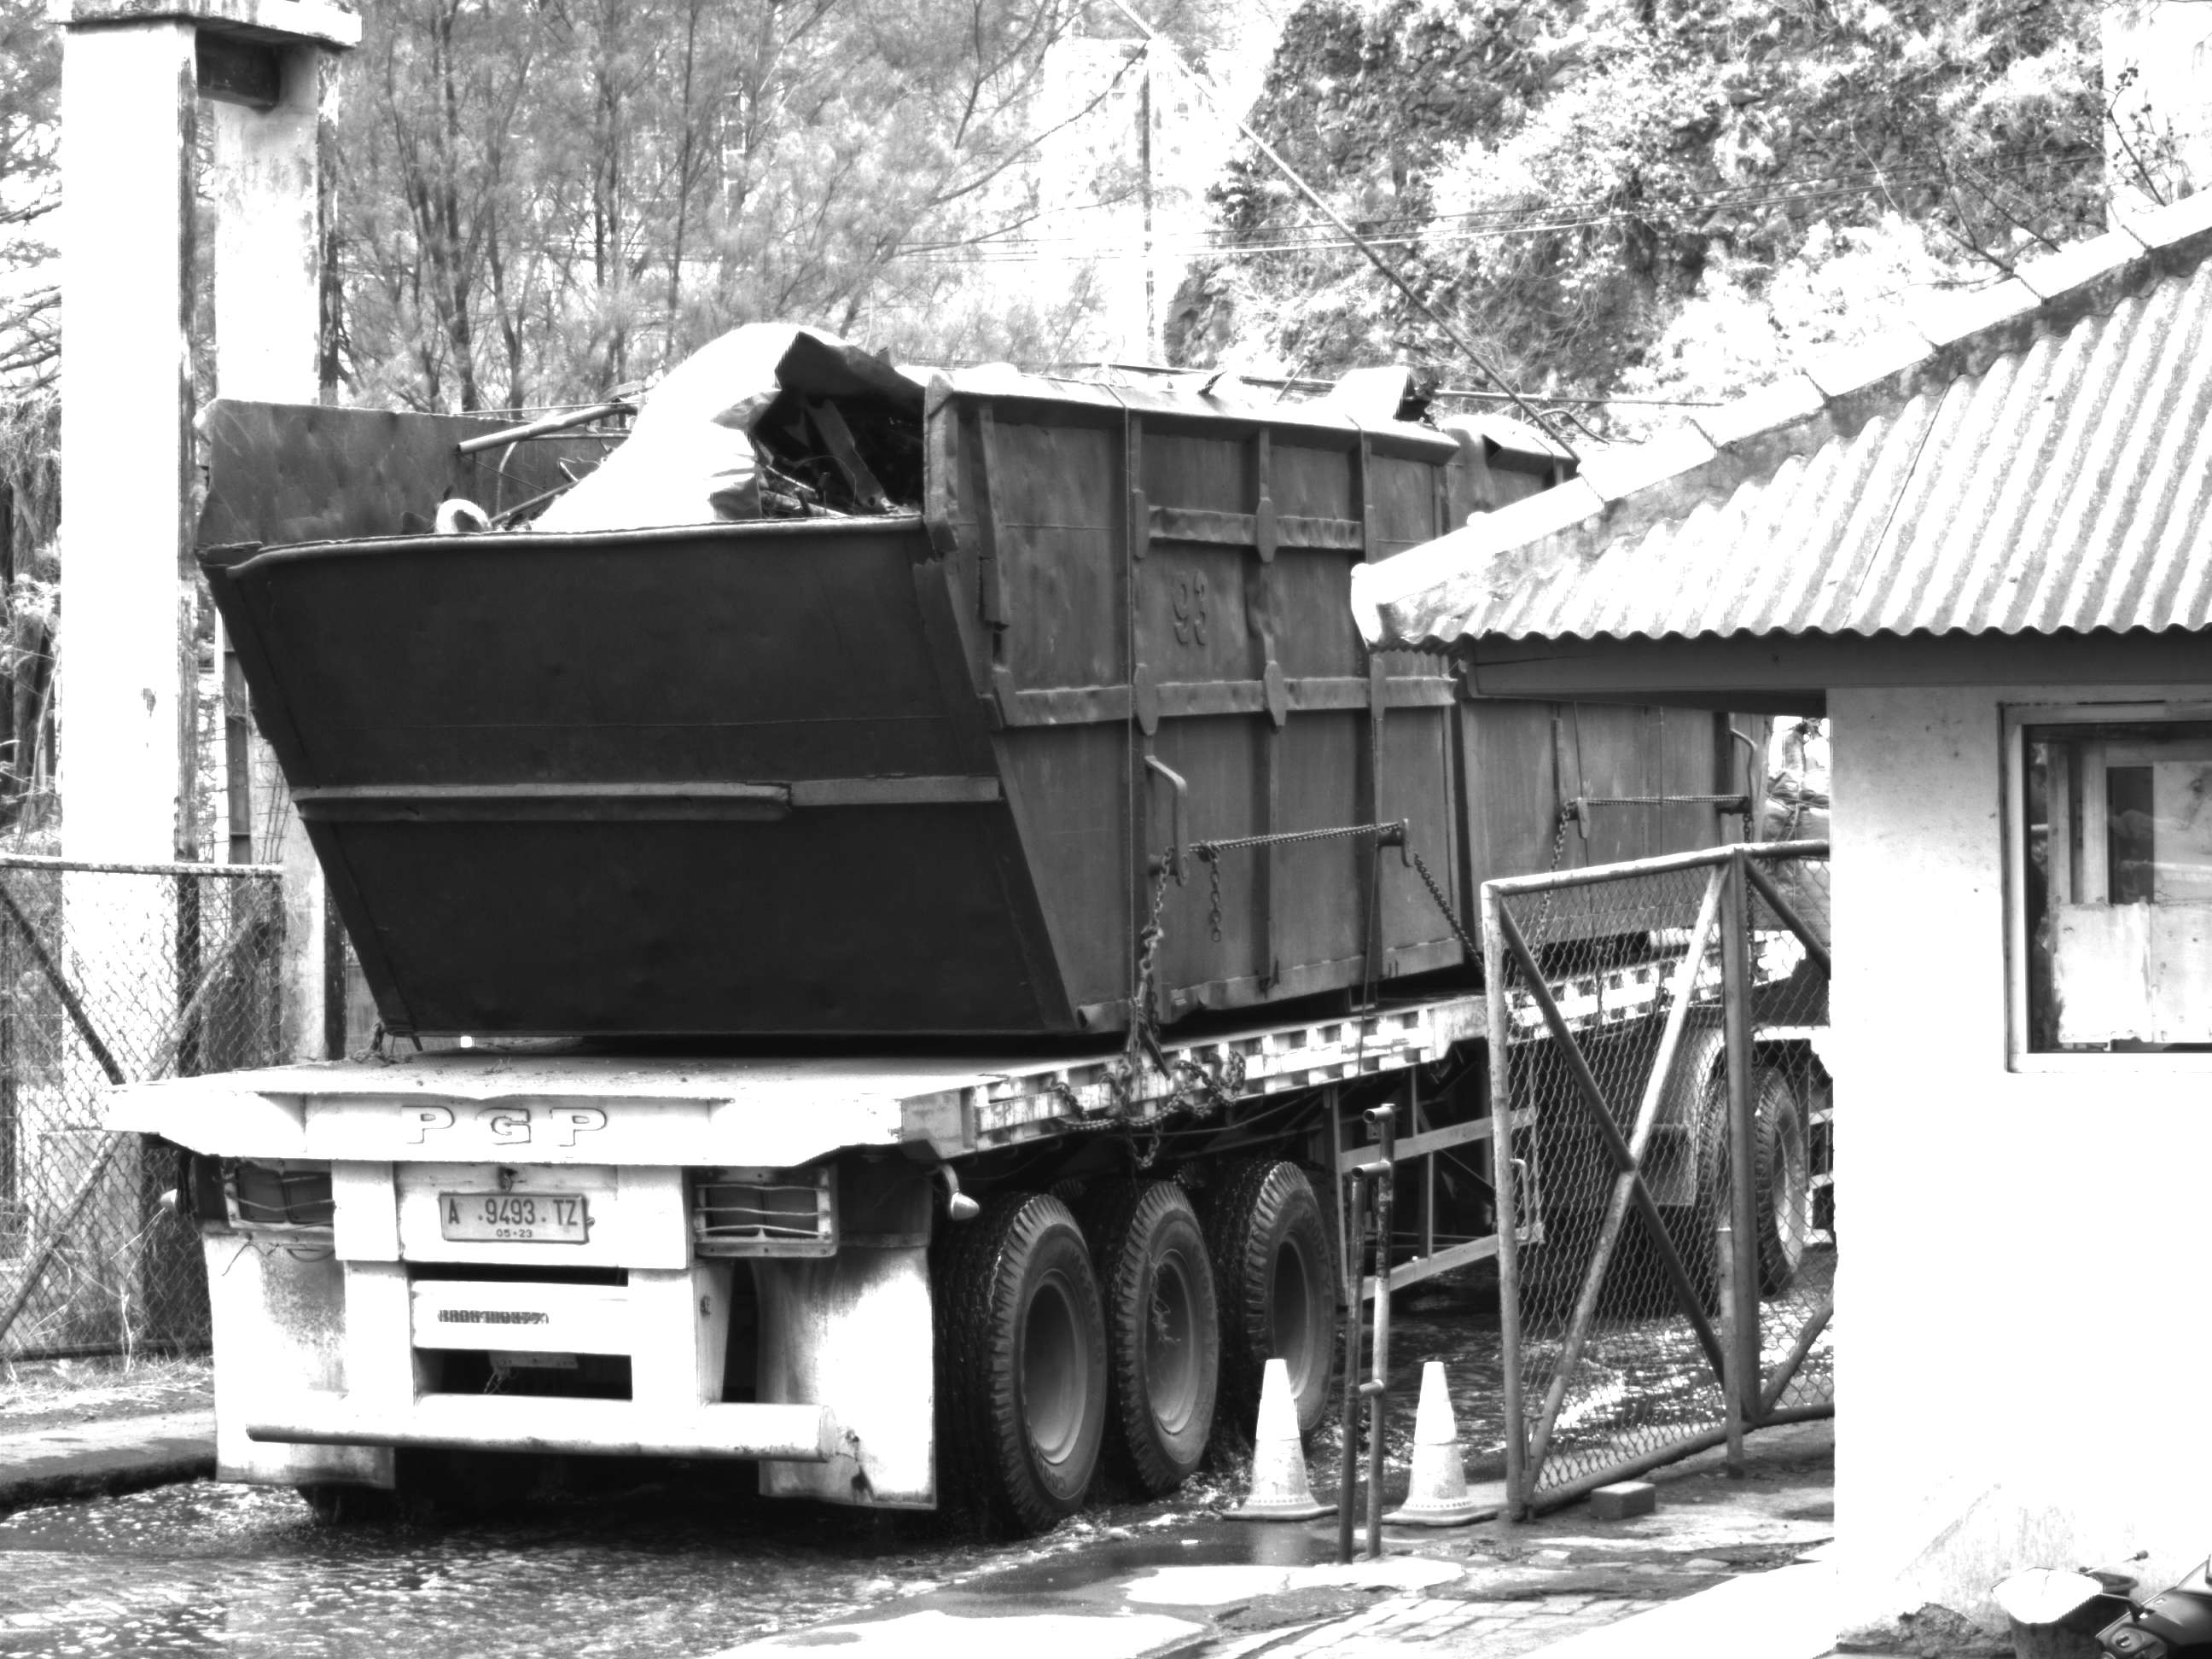day_truck_rear: (85, 1055, 1106, 1528)
plate: (432, 1182, 604, 1252)
